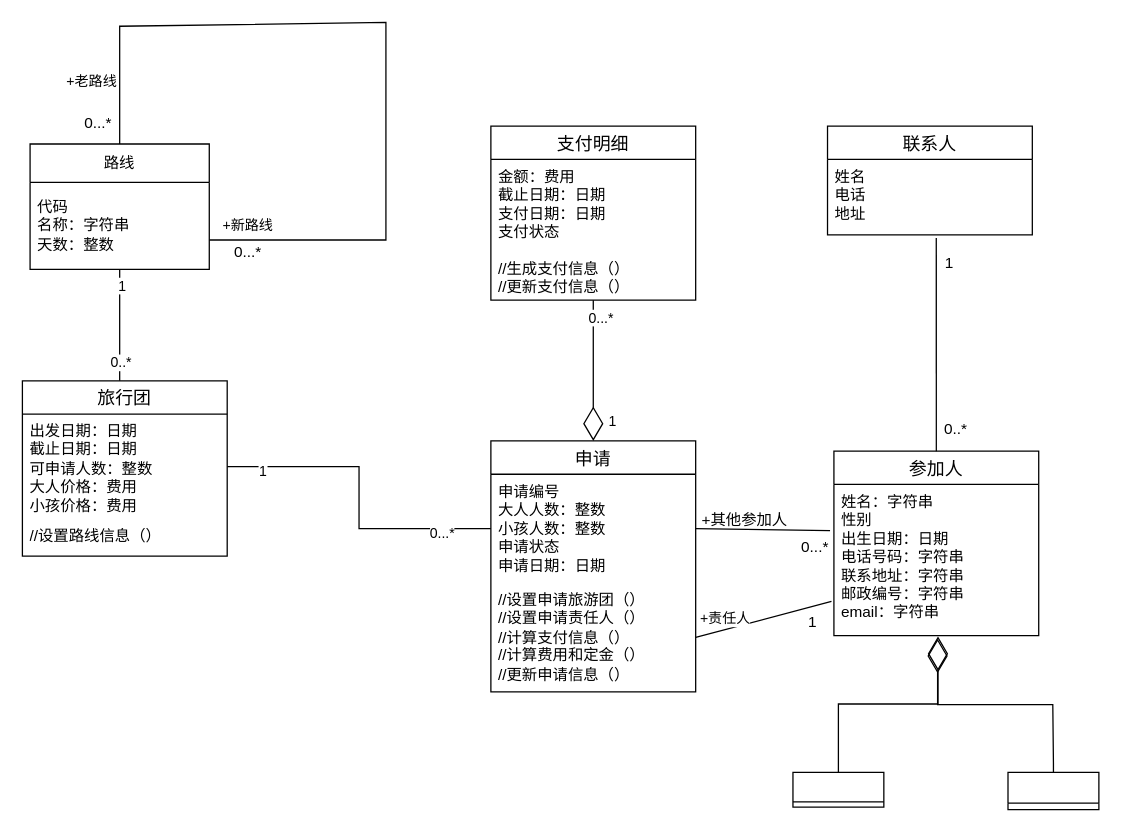
This 1121x832 diagram has some shape labels left out. Each missing label, with the centre of its shape:
大人: the point at 838,789
小孩: the point at 1053,790
